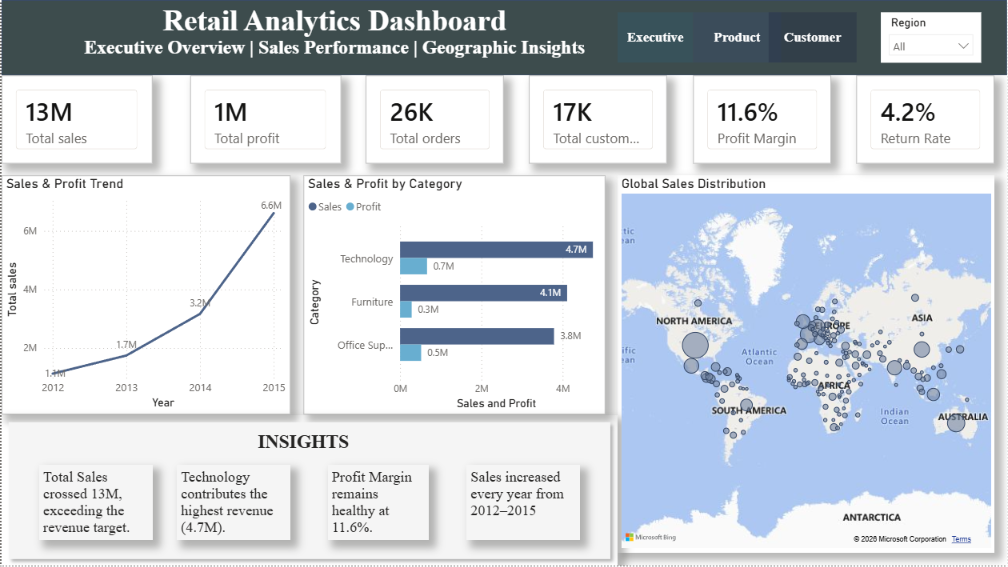

This screenshot's page, from the dashboard's own definition file:
{"tool":"powerbi","page":{"name":"Executive","canvas":[1280,720],"ordinal":0},"visuals":[{"type":"cardVisual","fields":{"Data":["Orders.Total sales"]},"box":[0,96,192,112],"z":0},{"type":"cardVisual","fields":{"Data":["Orders.Total profit"]},"box":[240,96,192,112],"z":1000},{"type":"cardVisual","fields":{"Data":["Orders.Total customers"]},"box":[672,96,176,112],"z":2000},{"type":"cardVisual","fields":{"Data":["Orders.Profit margin %"]},"box":[880,96,176,112],"z":3000},{"type":"cardVisual","fields":{"Data":["Customer summary.Return Rate"]},"box":[1088,96,176,112],"z":4000},{"type":"cardVisual","fields":{"Data":["Orders.Total orders"]},"box":[464,96,176,112],"z":5000},{"type":"lineChart","title":"Sales & Profit Trend","fields":{"Category":["Customer summary.Last order date.Variation.Date Hierarchy.Year","Customer summary.Last order date.Variation.Date Hierarchy.Quarter","Customer summary.Last order date.Variation.Date Hierarchy.Month","Customer summary.Last order date.Variation.Date Hierarchy.Day","Orders.Order Date"],"Y":["Orders.Total sales"]},"box":[0,224,368,304],"z":6000},{"type":"clusteredBarChart","title":"Sales & Profit by Category","fields":{"Category":["Orders.Category","Orders.Sub-Category"],"Y":["Orders.Total sales","Orders.Total profit"]},"box":[384,224,384,304],"z":7000},{"type":"shape","box":[0,0,1280,96],"z":8000},{"type":"textbox","box":[0,0,848,112],"z":9000},{"type":"slicer","fields":{"Values":["People.Region"]},"box":[1120,16,128,64],"z":10000},{"type":"shape","box":[0,528,784,192],"z":11000},{"type":"map","title":"Global Sales Distribution","fields":{"Category":["Orders.Country"],"Size":["Orders.Total sales"]},"box":[784,224,480,480],"z":12000},{"type":"textbox","box":[48,592,144,96],"z":13000},{"type":"textbox","box":[416,592,128,96],"z":14000},{"type":"textbox","box":[592,592,144,96],"z":15000},{"type":"textbox","box":[224,592,144,96],"z":16000},{"type":"textbox","box":[240,544,288,48],"z":17000},{"type":"actionButton","box":[784,16,96,64],"z":19000},{"type":"actionButton","box":[880,16,112,64],"z":20000},{"type":"actionButton","box":[976,16,112,64],"z":21000}]}

Visuals, with their boxes in screenshot pixels (x1, y1, x2, y2), scaled from the page's 1280x720 canvas onto the 1008x567 screenshot:
cardVisual - Orders.Total sales: region(0, 76, 151, 164)
cardVisual - Orders.Total profit: region(189, 76, 340, 164)
cardVisual - Orders.Total customers: region(529, 76, 668, 164)
cardVisual - Orders.Profit margin %: region(693, 76, 832, 164)
cardVisual - Customer summary.Return Rate: region(857, 76, 995, 164)
cardVisual - Orders.Total orders: region(365, 76, 504, 164)
"Sales & Profit Trend" lineChart: region(0, 176, 290, 416)
"Sales & Profit by Category" clusteredBarChart: region(302, 176, 605, 416)
shape: region(0, 0, 1007, 76)
textbox: region(0, 0, 668, 88)
slicer - People.Region: region(882, 13, 983, 63)
shape: region(0, 416, 617, 566)
"Global Sales Distribution" map: region(617, 176, 995, 554)
textbox: region(38, 466, 151, 542)
textbox: region(328, 466, 428, 542)
textbox: region(466, 466, 580, 542)
textbox: region(176, 466, 290, 542)
textbox: region(189, 428, 416, 466)
actionButton: region(617, 13, 693, 63)
actionButton: region(693, 13, 781, 63)
actionButton: region(769, 13, 857, 63)
